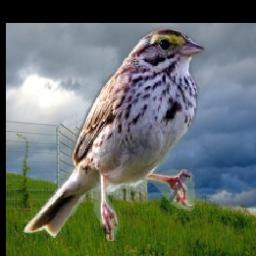Sparrow: (23, 27, 206, 242)
